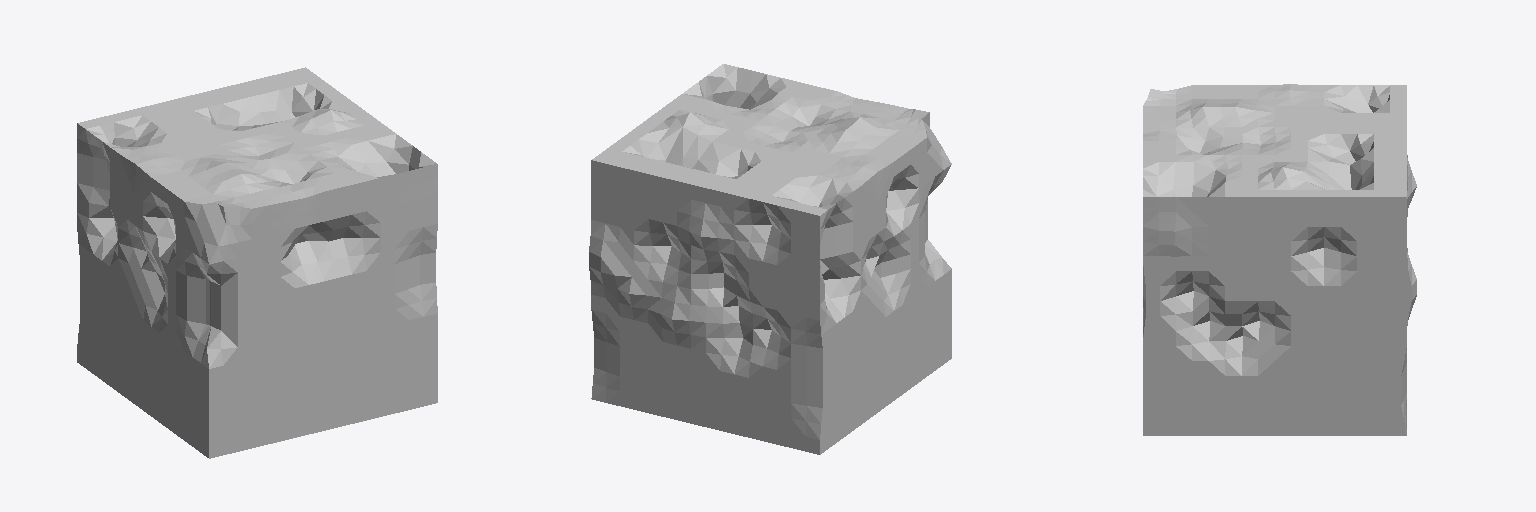
The model's file is roomdestroyed.obj.
3 renders of one model, left to right at view 1: azimuth 30°, elevation 25°; view 2: azimuth 150°, elevation 25°; view 3: azimuth 270°, elevation 25°, orthographic.
Parts seen in each view (by area): view 1: Cube; view 2: Cube; view 3: Cube.
Boxes of the visible parts, <box> form: Cube: <box>77,67,437,458</box>; Cube: <box>589,64,951,454</box>; Cube: <box>1143,84,1416,435</box>.
Size of the model in its own units: 2.02 by 2.11 by 2.08.